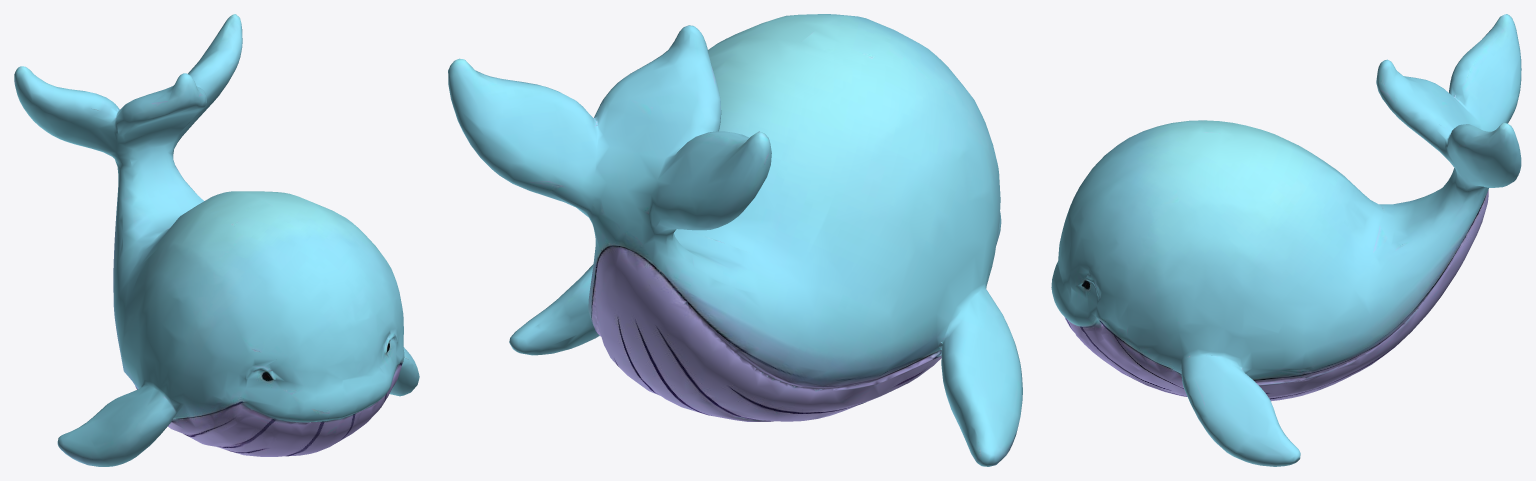
File: whale.glb
3 renders of one model, left to right at view 1: azimuth 30°, elevation 25°; view 2: azimuth 150°, elevation 25°; view 3: azimuth 270°, elevation 25°, orthographic. The views are drawn at different scales.
Parts seen in each view (by area): view 1: Mesh_0; view 2: Mesh_0; view 3: Mesh_0.
Part boxes in pixels (x1=…): Mesh_0: x1=14, y1=14, x2=419, y2=466; Mesh_0: x1=448, y1=14, x2=1022, y2=466; Mesh_0: x1=1051, y1=14, x2=1521, y2=466.
Size of the model in its own units: 1.68 by 1.45 by 1.9.
1 material, 1 textured.
